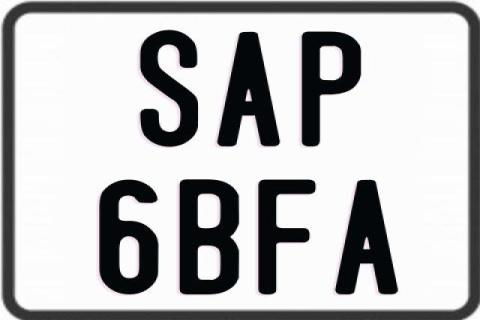0: (97, 179, 158, 293)
A: (332, 178, 400, 294), (215, 32, 279, 148)
B: (177, 179, 241, 295)
F: (257, 178, 320, 298)
P: (300, 30, 364, 150)
S: (137, 28, 195, 146)
